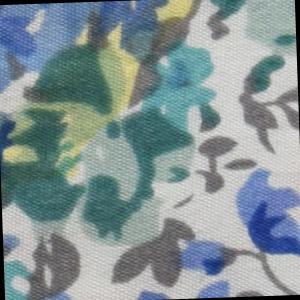Stain: (1, 1, 214, 201)
